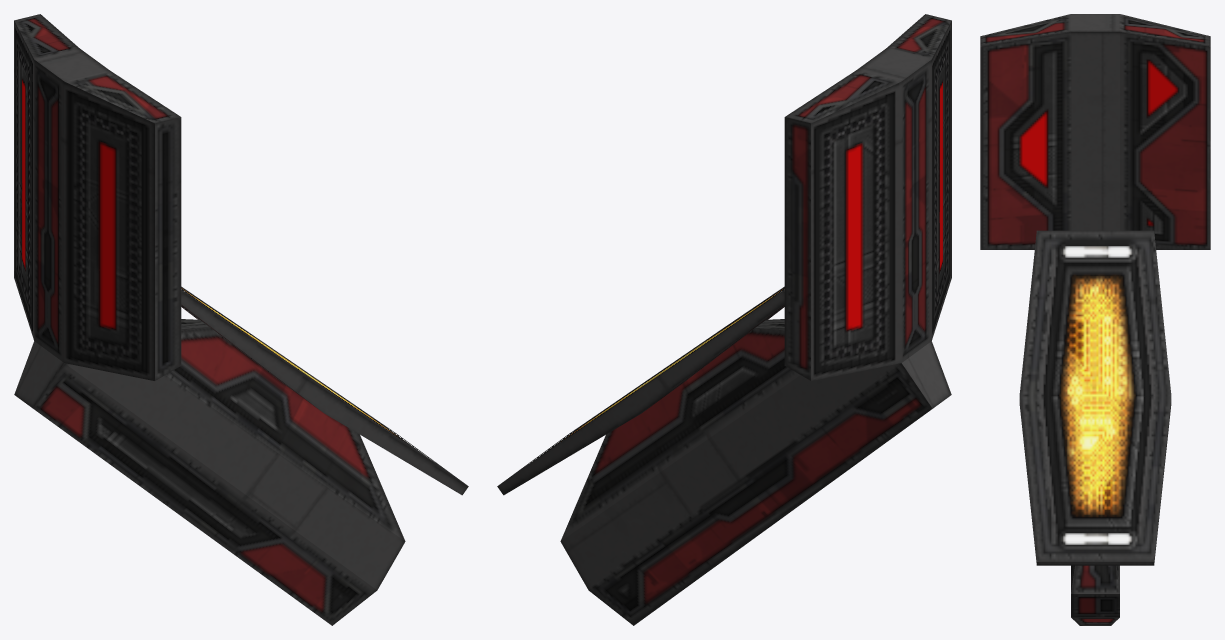
File: BFP_StardockLowerSection01.FBX
3 renders of one model, left to right at view 1: azimuth 30°, elevation 25°; view 2: azimuth 150°, elevation 25°; view 3: azimuth 270°, elevation 25°, orthographic. The views are drawn at different scales.
Parts seen in each view (by area): view 1: BFP_LowerStardockSection01, HullPart01, ConstructBeamPanel; view 2: BFP_LowerStardockSection01, HullPart01, ConstructBeamPanel; view 3: HullPart01, ConstructBeamPanel, BFP_LowerStardockSection01.
Part boxes in pixels (x1,y1,x2,y2): BFP_LowerStardockSection01: (14,319,405,625); HullPart01: (14,14,181,380); ConstructBeamPanel: (181,286,468,495); BFP_LowerStardockSection01: (560,319,951,625); HullPart01: (784,14,951,380); ConstructBeamPanel: (497,286,784,495); HullPart01: (980,14,1210,249); ConstructBeamPanel: (1019,230,1171,565); BFP_LowerStardockSection01: (1071,565,1119,625).
Bounding box in the file's own units: 855 × 1228 × 509.
Materials: 1 (1 with a texture image).
